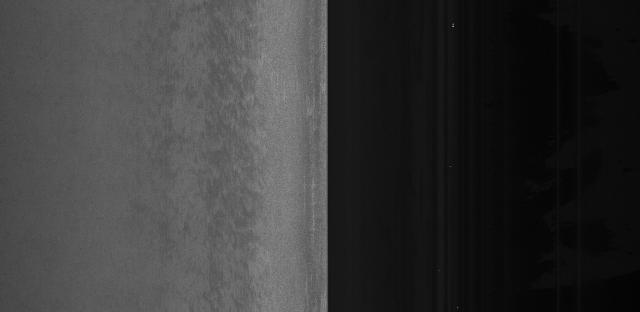silk_spot: (205, 20, 271, 273)
